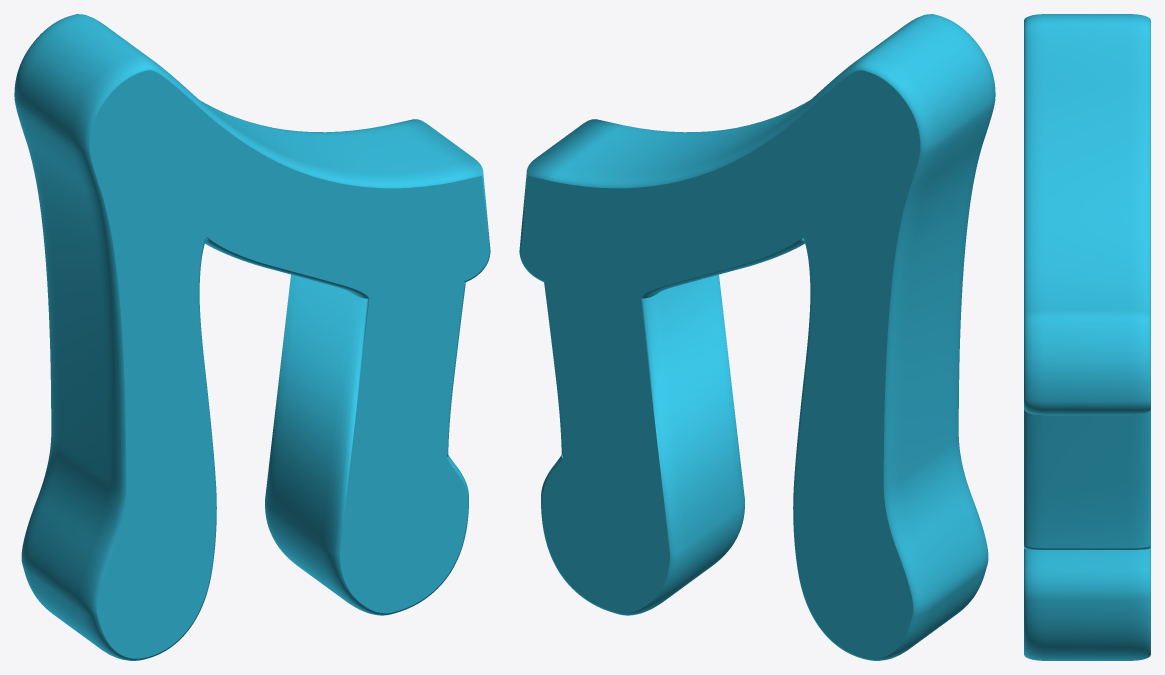
File: rune4.fbx
The picture shows the model from 3 angles, left to right: view 1: azimuth 30°, elevation 25°; view 2: azimuth 150°, elevation 25°; view 3: azimuth 270°, elevation 25°; orthographic projection. The views are drawn at different scales.
Parts seen in each view (by area): view 1: Text; view 2: Text; view 3: Text.
Part boxes in pixels (x1,y1,x2,y2): Text: (14,14,490,660); Text: (519,14,995,660); Text: (1024,14,1150,660).
Size of the model in its own units: 19.36 by 27.61 by 6.
